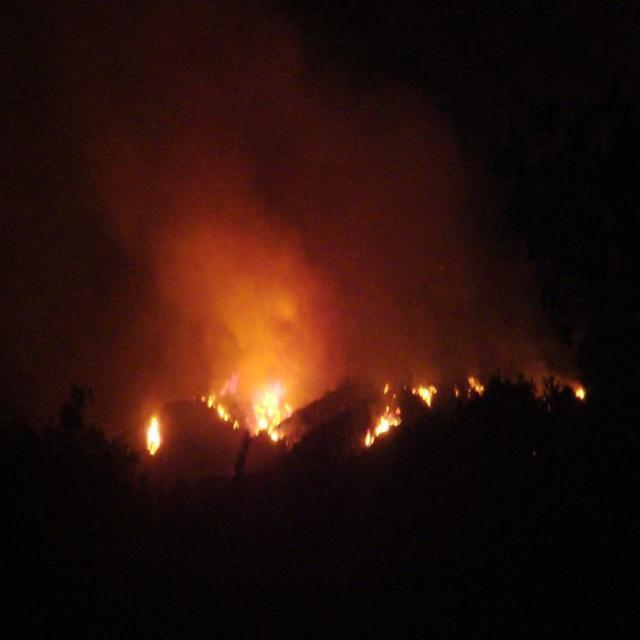Fire: (358, 376, 437, 472), (203, 378, 306, 446), (132, 414, 173, 458), (457, 370, 484, 402), (570, 382, 591, 402)
